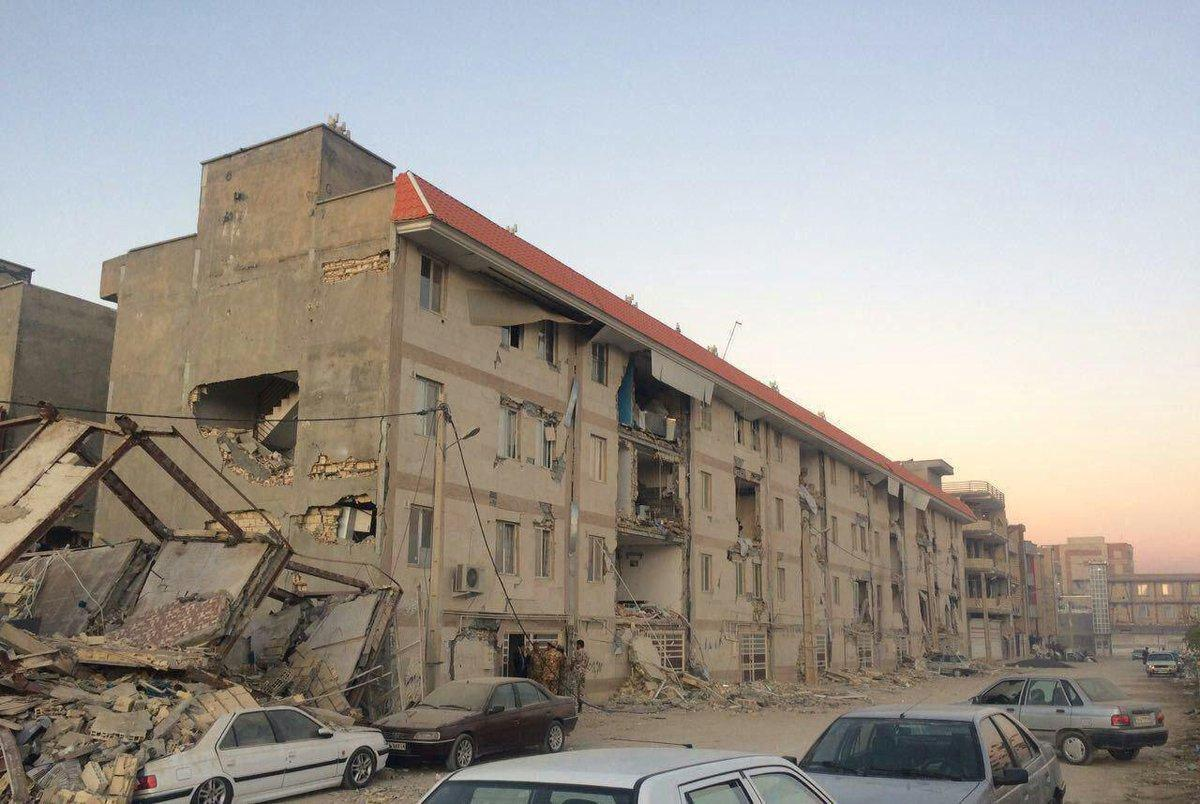major: (79, 114, 1049, 710)
